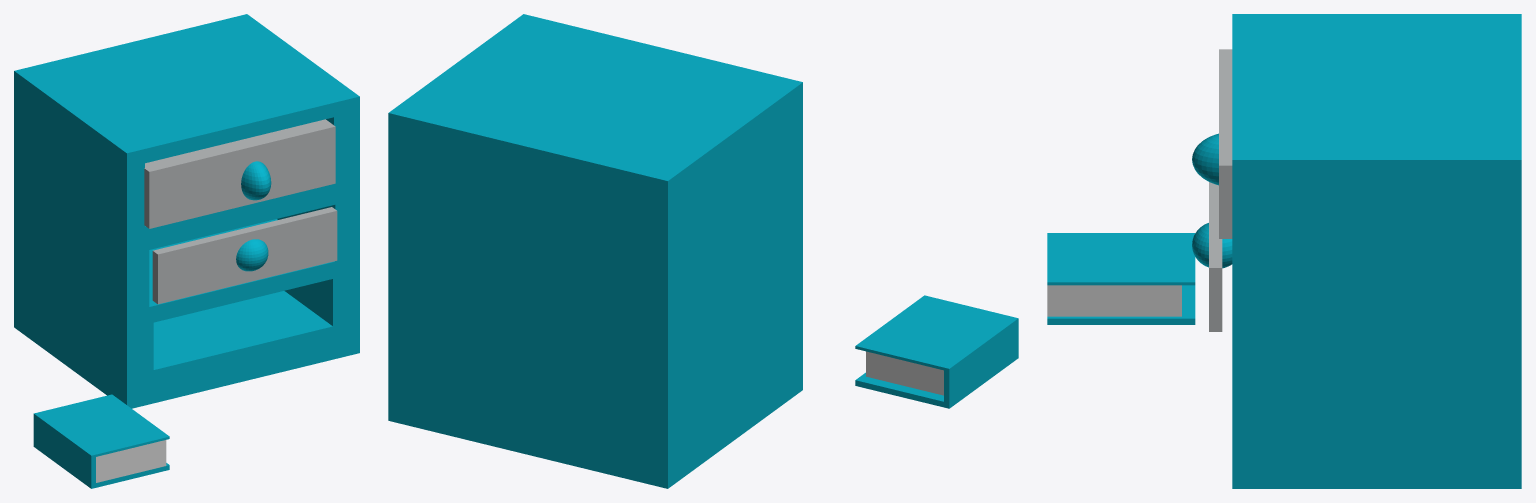
The model's file is Exquisite Habbi.glb.
3 renders of one model, left to right at view 1: azimuth 30°, elevation 25°; view 2: azimuth 150°, elevation 25°; view 3: azimuth 270°, elevation 25°, orthographic. The views are drawn at different scales.
Visible parts, largest first — view 1: Mesh_Mesh_head_geo.001_lambert2SG.001; view 2: Mesh_Mesh_head_geo.001_lambert2SG.001; view 3: Mesh_Mesh_head_geo.001_lambert2SG.001.
Part boxes in pixels (x1=…): Mesh_Mesh_head_geo.001_lambert2SG.001: x1=14, y1=14, x2=359, y2=488; Mesh_Mesh_head_geo.001_lambert2SG.001: x1=388, y1=14, x2=1018, y2=488; Mesh_Mesh_head_geo.001_lambert2SG.001: x1=1047, y1=14, x2=1521, y2=488.
Size of the model in its own units: 150 by 108 by 141.
